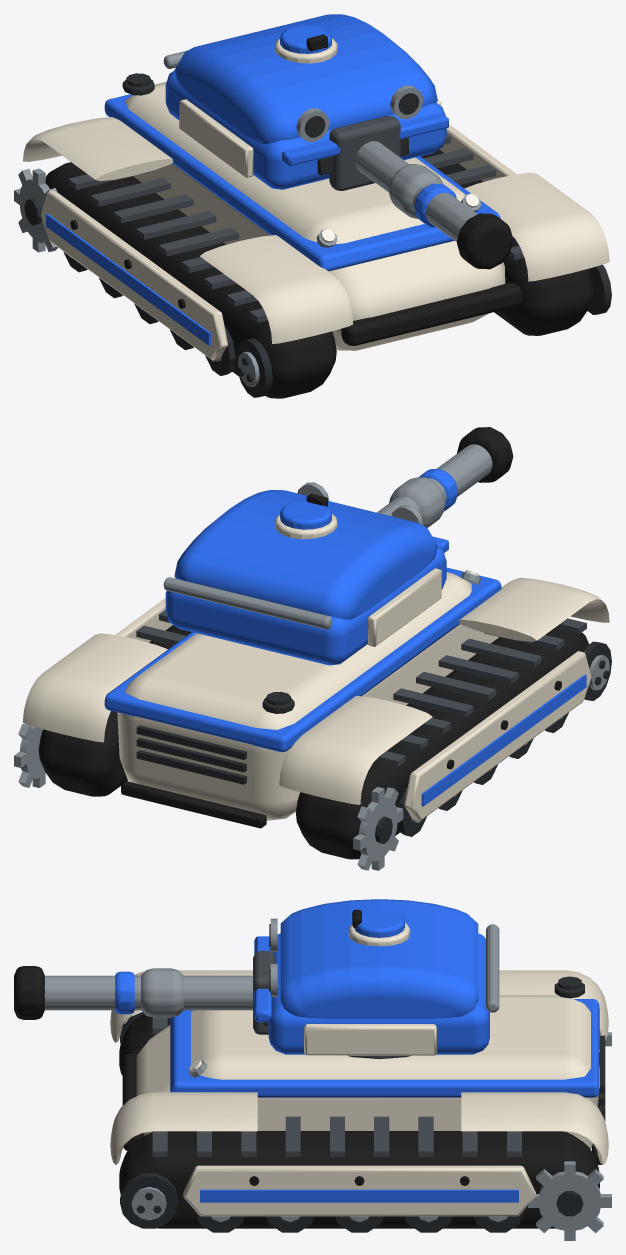
The model's file is heavy_tank.glb.
The picture shows the model from 3 angles, top to bottom: view 1: azimuth 30°, elevation 25°; view 2: azimuth 150°, elevation 25°; view 3: azimuth 270°, elevation 25°; orthographic projection. The views are drawn at different scales.
Parts seen in each view (by area): view 1: hull__M_CreamPlastic, turret__M_Team, gear__M_Licorice, gear__M_CreamPlastic, hull__M_Team, tread_r__M_SmokePlastic, barrel__M_SpringSteel, hull__M_Licorice, turret__M_SmokePlastic, cheek_r__M_CreamPlastic, barrel__M_Licorice, gear__M_Team (+11 smaller); view 2: hull__M_CreamPlastic, turret__M_Team, gear__M_Licorice, hull__M_Team, gear__M_CreamPlastic, tread_r__M_SmokePlastic, barrel__M_SpringSteel, hull__M_Dark, turret__M_SpringSteel, cheek_r__M_CreamPlastic, sprocket_r__M_SpringSteel, gear__M_Team (+9 smaller); view 3: hull__M_CreamPlastic, turret__M_Team, gear__M_Licorice, gear__M_CreamPlastic, hull__M_Team, barrel__M_SpringSteel, tread_l__M_SmokePlastic, gear__M_Team, cheek_l__M_CreamPlastic, sprocket_l__M_SpringSteel, gear__M_Dark, idler_l__M_Dark (+11 smaller).
Part boxes in pixels (box(x1,y1,x2,y2)): hull__M_CreamPlastic: box(23, 81, 609, 350); turret__M_Team: box(165, 14, 448, 189); gear__M_Licorice: box(45, 149, 593, 398); gear__M_CreamPlastic: box(41, 124, 516, 360); hull__M_Team: box(104, 94, 500, 271); tread_r__M_SmokePlastic: box(68, 172, 267, 322); barrel__M_SpringSteel: box(355, 141, 477, 242); hull__M_Licorice: box(341, 283, 522, 345); turret__M_SmokePlastic: box(329, 116, 400, 190); cheek_r__M_CreamPlastic: box(179, 99, 253, 177); barrel__M_Licorice: box(457, 213, 513, 269); gear__M_Team: box(46, 213, 210, 345); hull__M_CreamPlastic: box(23, 572, 609, 820); turret__M_Team: box(165, 490, 448, 665); gear__M_Licorice: box(38, 625, 588, 859); hull__M_Team: box(104, 567, 501, 752); gear__M_CreamPlastic: box(115, 598, 591, 821); tread_r__M_SmokePlastic: box(375, 618, 586, 766); barrel__M_SpringSteel: box(377, 444, 492, 527); hull__M_Dark: box(136, 725, 246, 784); turret__M_SpringSteel: box(163, 482, 423, 629); cheek_r__M_CreamPlastic: box(368, 568, 441, 646); sprocket_r__M_SpringSteel: box(353, 787, 403, 870); gear__M_Team: box(421, 674, 586, 806); hull__M_CreamPlastic: box(110, 970, 608, 1164); turret__M_Team: box(254, 899, 489, 1054); gear__M_Licorice: box(119, 1014, 599, 1228); gear__M_CreamPlastic: box(183, 1165, 535, 1216); hull__M_Team: box(170, 999, 599, 1097); barrel__M_SpringSteel: box(44, 968, 252, 1017); tread_l__M_SmokePlastic: box(152, 1116, 521, 1156); gear__M_Team: box(200, 1189, 518, 1202); cheek_l__M_CreamPlastic: box(304, 1024, 436, 1055); sprocket_l__M_SpringSteel: box(528, 1161, 611, 1240); gear__M_Dark: box(194, 1210, 524, 1232); idler_l__M_Dark: box(120, 1173, 178, 1228).
Bounding box in the file's own units: 0.966 × 0.612 × 1.35.
